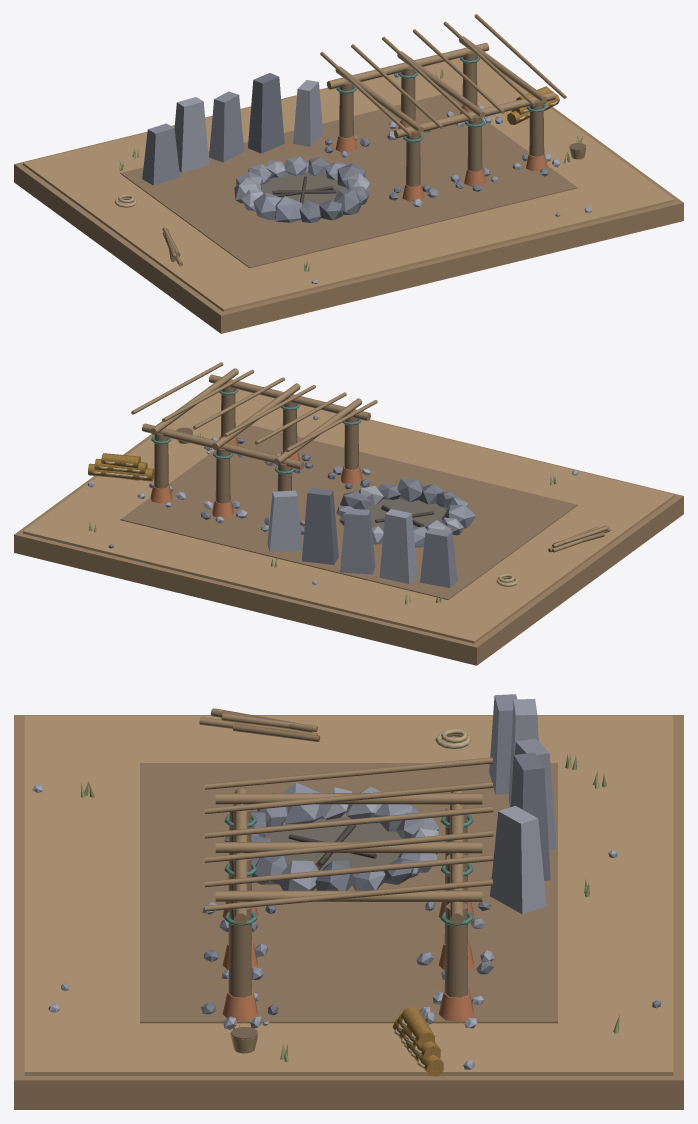
File: townhall-construction.glb
The picture shows the model from 3 angles, top to bottom: view 1: azimuth 30°, elevation 25°; view 2: azimuth 150°, elevation 25°; view 3: azimuth 270°, elevation 25°; orthographic projection. The views are drawn at different scales.
Parts seen in each view (by area): view 1: era1; view 2: era1; view 3: era1.
Boxes of the visible parts, left/top/right/bottom form: era1: left=14, top=14, right=683, bottom=333; era1: left=14, top=362, right=683, bottom=665; era1: left=14, top=694, right=683, bottom=1109.
Size of the model in its own units: 24.18 by 5.6 by 18.6.
19 materials, 1 textured.
